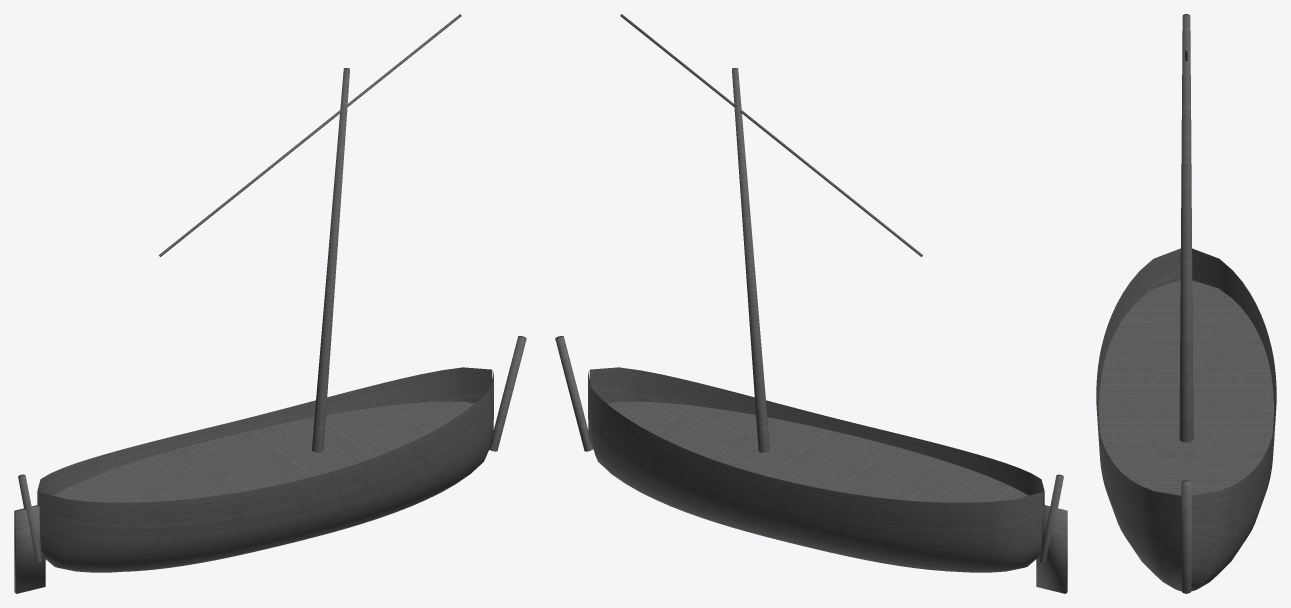
Rendered from SM_Island_Boat.fbx.
3 views of the same model, side by side, from view 1: azimuth 30°, elevation 25°; view 2: azimuth 150°, elevation 25°; view 3: azimuth 270°, elevation 25° (orthographic). The views are drawn at different scales.
Parts seen in each view (by area): view 1: SM_Island_Boat; view 2: SM_Island_Boat; view 3: SM_Island_Boat.
Boxes of the visible parts, left/top/right/bottom form: SM_Island_Boat: left=14, top=14, right=526, bottom=593; SM_Island_Boat: left=555, top=14, right=1067, bottom=593; SM_Island_Boat: left=1096, top=14, right=1276, bottom=593.
Bounding box in the file's own units: 1572 × 1400 × 408.
Materials: 1 (1 with a texture image).
